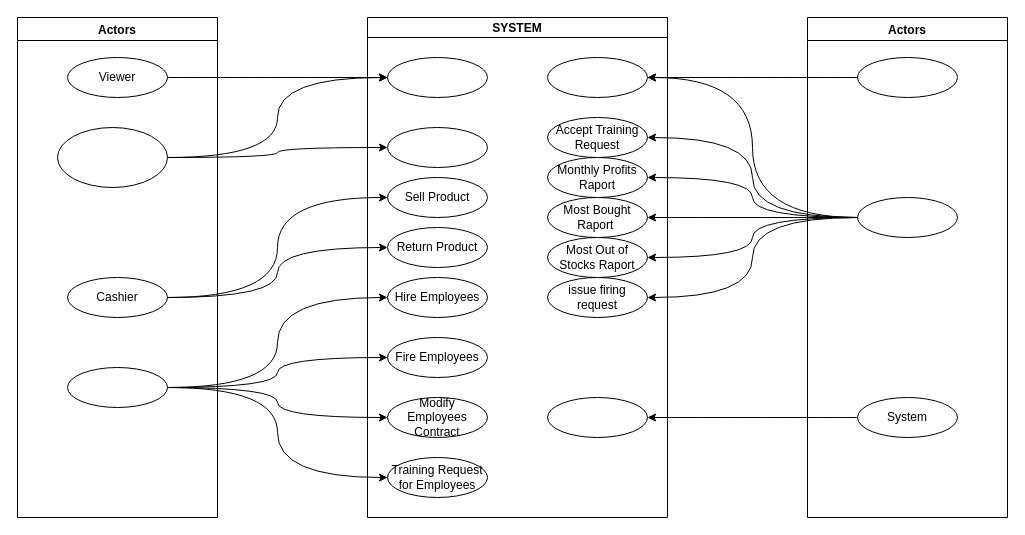
This 1025x535 diagram has some shape labels left out. The box of each missing label's shape, as (x1, y1, x2, y2) in pixels:
Admin: (856, 56, 958, 98)
aplies for a job: (386, 126, 488, 168)
CEO: (856, 196, 958, 238)
Full CRUD: (546, 56, 648, 98)
HR: (66, 366, 168, 408)
Log Transaction: (546, 396, 648, 438)
user: (56, 126, 168, 188)
View Products: (386, 56, 488, 98)
